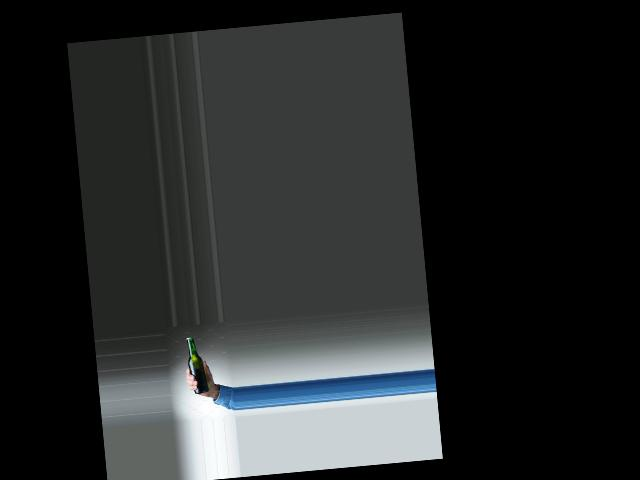beer: (185, 336, 209, 393)
